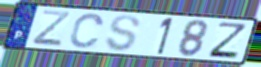1: (157, 17, 175, 56)
8: (177, 19, 210, 58)
C: (68, 12, 106, 49)
S: (103, 14, 142, 53)
Z: (30, 9, 73, 48), (206, 21, 249, 60)
